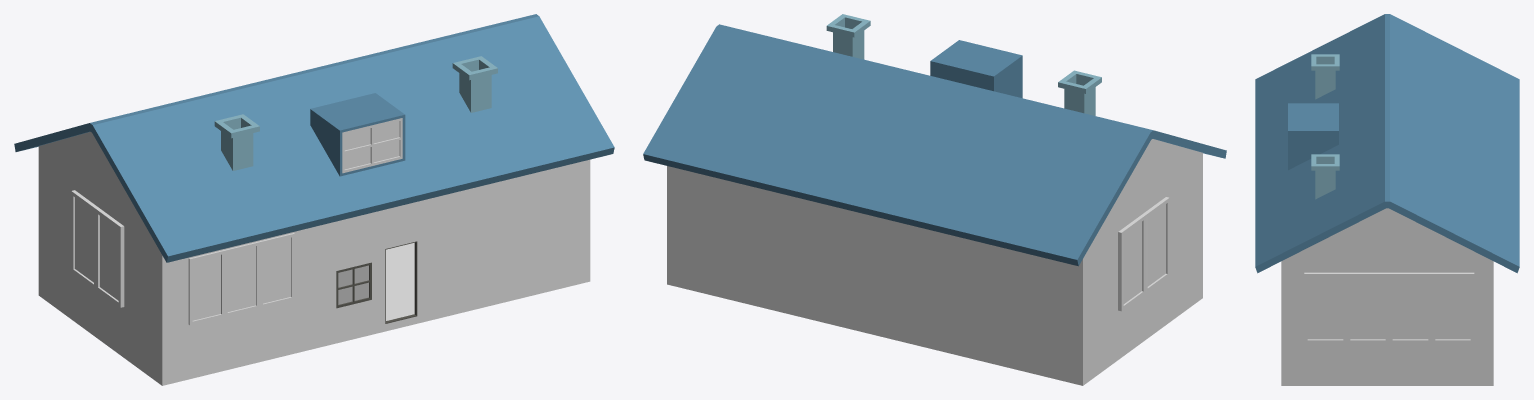
File: Room_roof.fbx
3 views of the same model, side by side, from view 1: azimuth 30°, elevation 25°; view 2: azimuth 150°, elevation 25°; view 3: azimuth 270°, elevation 25° (orthographic). The views are drawn at different scales.
Visible parts, largest first — view 1: roof, room, window_frame.001, rooftop, chimney, rooftop_window_glass, rooftop_window_frame, window_glass, door_frame; view 2: roof, room, window_frame.001, rooftop, chimney; view 3: roof, room, window_frame.001, rooftop, chimney.
Part boxes in pixels (x1,y1,x2,y2): roof: (14,14,614,262); room: (38,132,590,385); window_frame.001: (71,190,294,325); rooftop: (310,93,405,176); chimney: (214,56,497,170); rooftop_window_glass: (344,121,399,169); rooftop_window_frame: (342,118,402,173); window_glass: (338,265,368,304); door_frame: (385,241,417,323); roof: (643,24,1226,266); room: (667,139,1202,385); window_frame.001: (1118,197,1169,311); rooftop: (930,40,1022,98); chimney: (826,14,1101,115); roof: (1255,14,1519,273); room: (1281,208,1493,385); window_frame.001: (1304,272,1474,343); rooftop: (1288,103,1338,170); chimney: (1311,54,1339,199).
Size of the model in its own units: 12.52 by 5.87 by 7.47.
